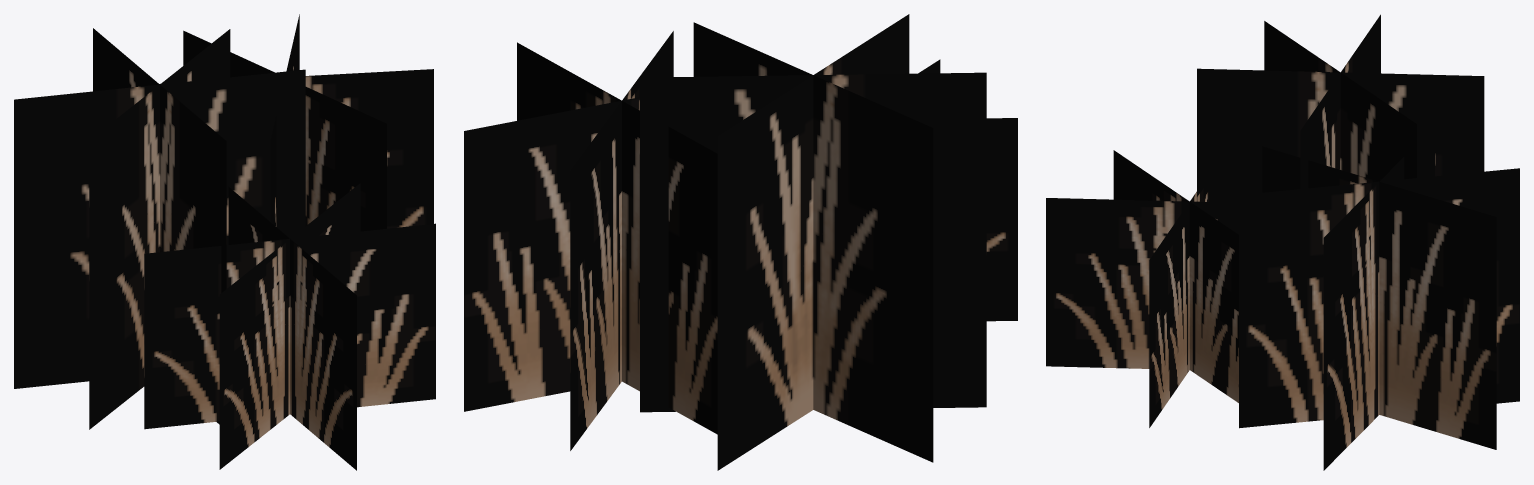
The model's file is Tropics Beach Grass Short.fbx.
3 views of the same model, side by side, from view 1: azimuth 30°, elevation 25°; view 2: azimuth 150°, elevation 25°; view 3: azimuth 270°, elevation 25° (orthographic). The views are drawn at different scales.
Visible parts, largest first — view 1: Beach Grass Small; view 2: Beach Grass Small; view 3: Beach Grass Small.
Boxes of the visible parts, box(x1,y1,x2,y2) form: Beach Grass Small: box(14, 14, 435, 470); Beach Grass Small: box(464, 14, 1017, 470); Beach Grass Small: box(1046, 14, 1519, 470).
Size of the model in its own units: 525 by 372 by 575.
